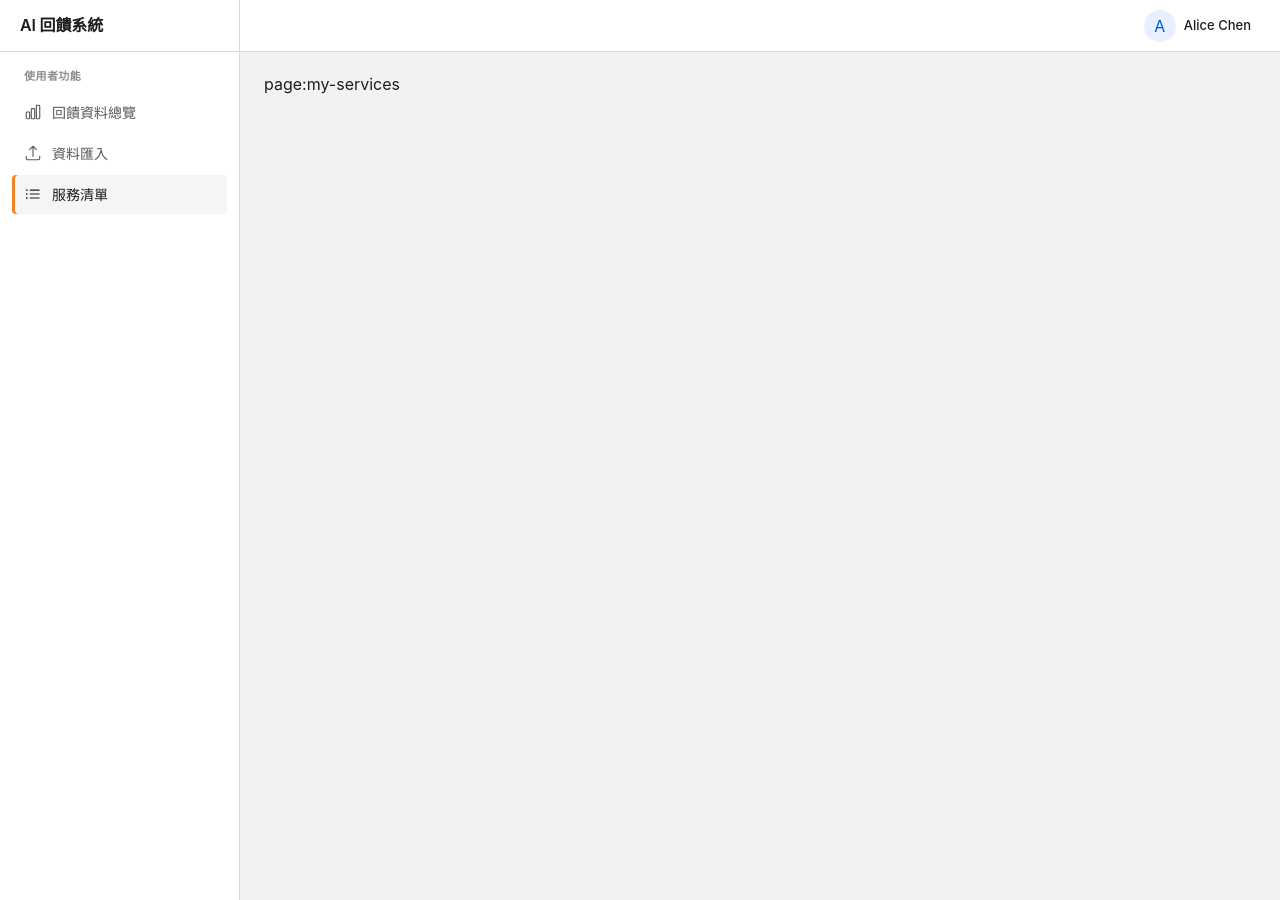
Layout navigation › renders the routed page and navigates via the sidebar
The width and height of the screenshot is (1280, 900).
Check: the text "page:my-services" is shown, box left=264, top=74, right=400, bottom=94
Click the link "回饋資料總覽" at {"x": 80, "y": 112}, box left=24, top=103, right=136, bottom=121
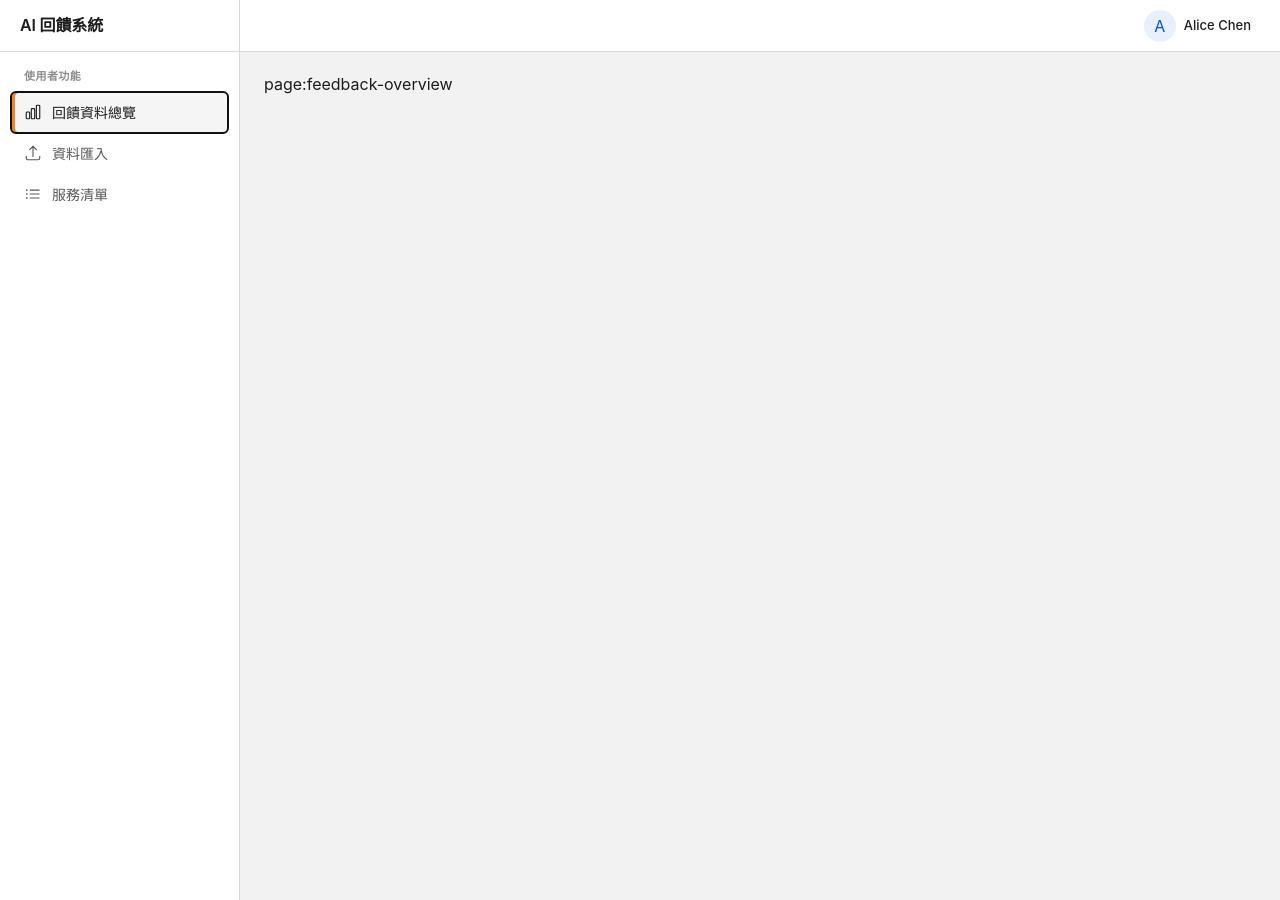
Check: the text "page:feedback-overview" is shown, box left=264, top=74, right=453, bottom=94
